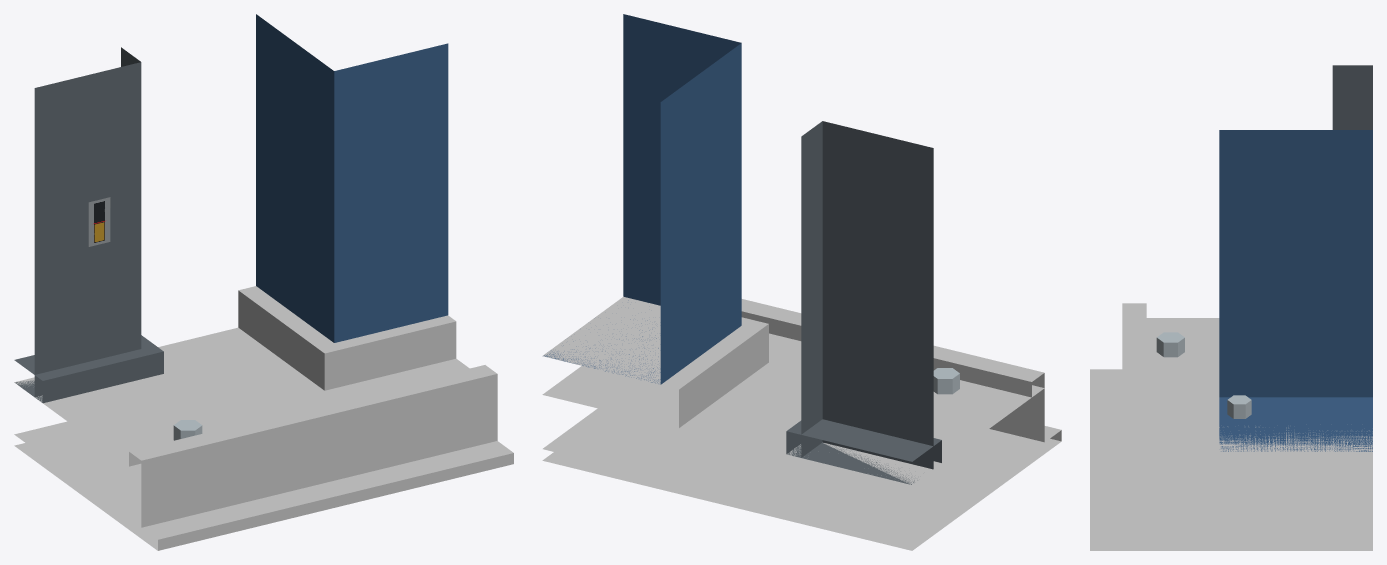
The model's file is cell_19.obj.
3 views of the same model, side by side, from view 1: azimuth 30°, elevation 25°; view 2: azimuth 150°, elevation 25°; view 3: azimuth 270°, elevation 25° (orthographic). The views are drawn at different scales.
Size of the model in its own units: 1 by 1 by 0.7.
